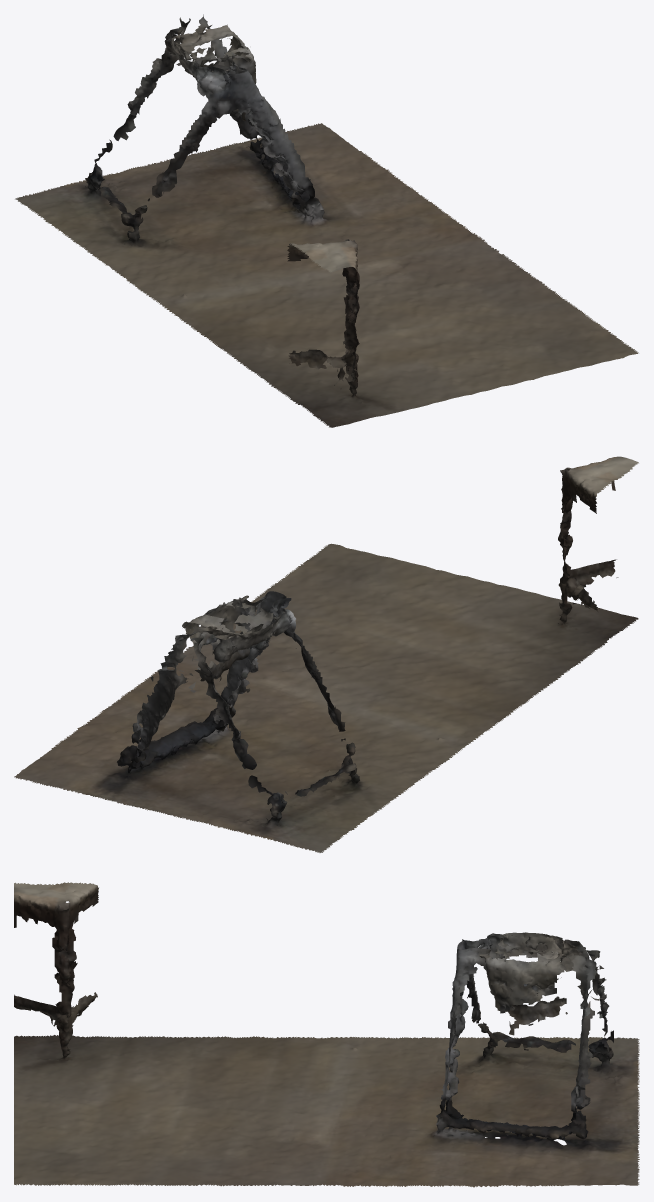
Rendered from fine.glb.
3 views of the same model, one above another, from view 1: azimuth 30°, elevation 25°; view 2: azimuth 150°, elevation 25°; view 3: azimuth 270°, elevation 25° (orthographic).
Size of the model in its own units: 1.32 by 0.656 by 2.34.
